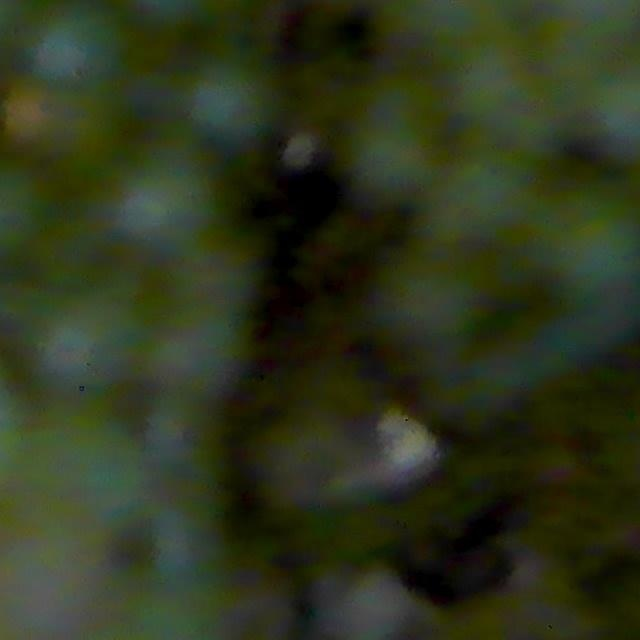SeaGrape: (87, 150, 213, 267), (329, 81, 444, 203), (365, 239, 474, 358), (526, 192, 636, 306), (32, 294, 138, 393), (149, 301, 251, 399), (29, 0, 124, 92), (198, 52, 278, 142)
